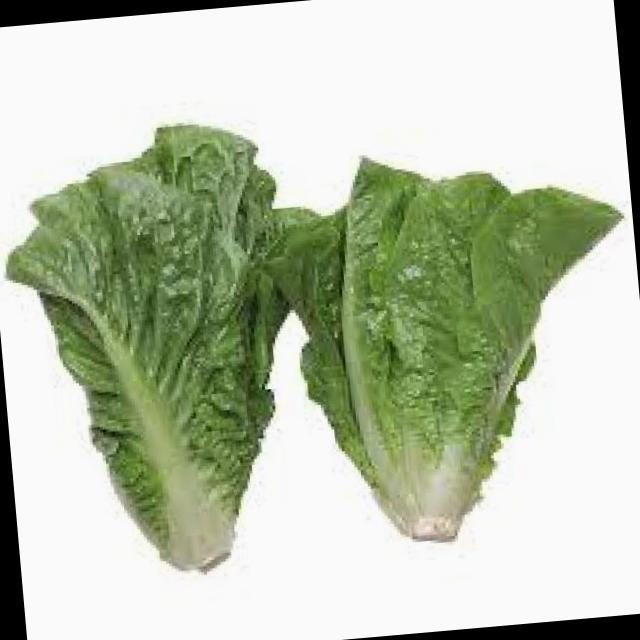Lettuce-Ready-to-Harvest: (282, 158, 621, 539), (7, 124, 283, 567)
